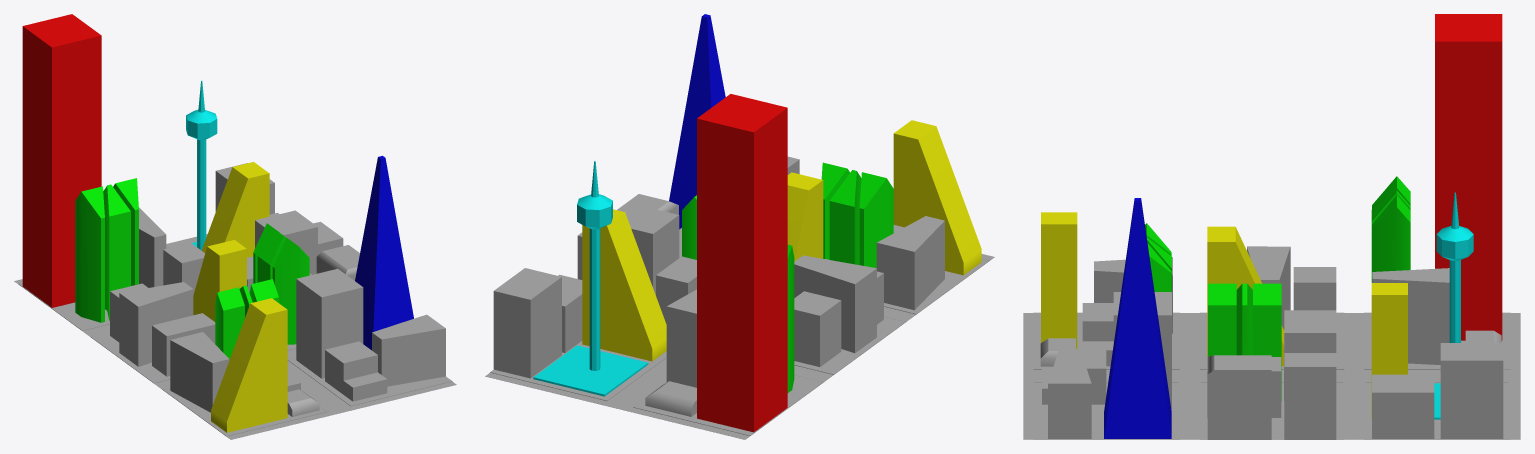
Rendered from City_Layout_Test.fbx.
The picture shows the model from 3 angles, left to right: view 1: azimuth 30°, elevation 25°; view 2: azimuth 150°, elevation 25°; view 3: azimuth 270°, elevation 25°; orthographic projection. The views are drawn at different scales.
Visible parts, largest first — view 1: LAYOUT_TEST, Road_Plane; view 2: LAYOUT_TEST, Road_Plane; view 3: LAYOUT_TEST, Road_Plane.
Boxes of the visible parts, box(x1,y1,x2,y2) form: LAYOUT_TEST: box(22, 14, 445, 432); Road_Plane: box(14, 234, 456, 439); LAYOUT_TEST: box(493, 14, 981, 432); Road_Plane: box(485, 254, 994, 439); LAYOUT_TEST: box(1040, 14, 1503, 439); Road_Plane: box(1023, 312, 1520, 439).
Bounding box in the file's own units: 97.73 × 108 × 162.
